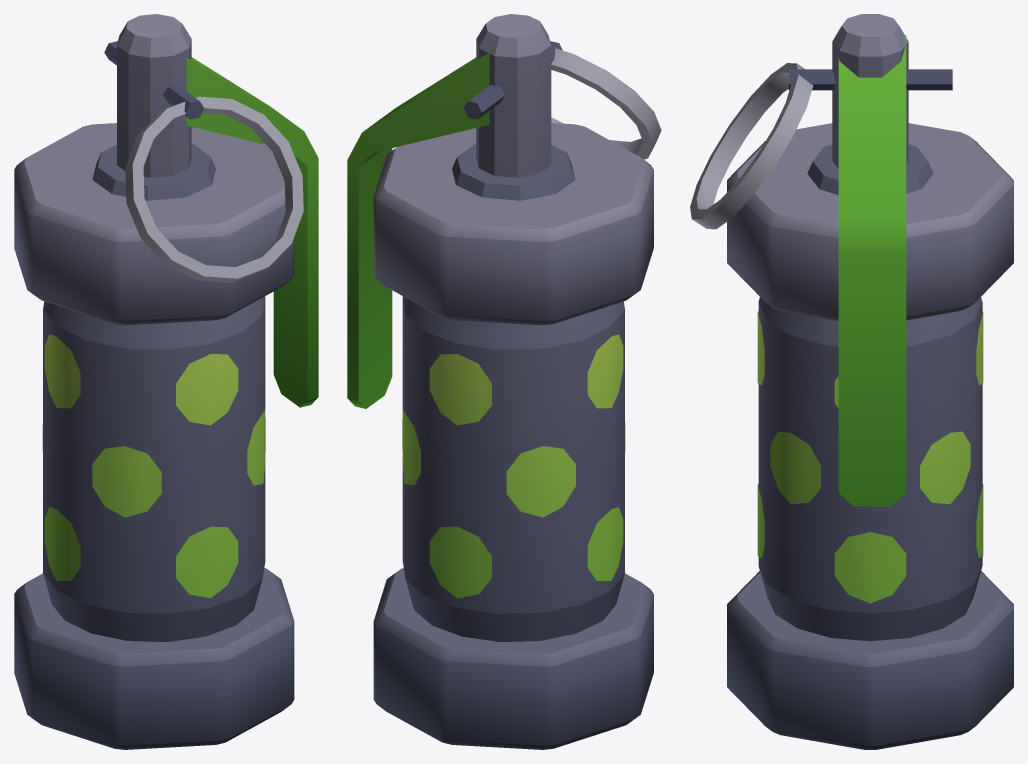
File: Grenade B.fbx
3 views of the same model, side by side, from view 1: azimuth 30°, elevation 25°; view 2: azimuth 150°, elevation 25°; view 3: azimuth 270°, elevation 25° (orthographic).
Visible parts, largest first — view 1: Grenade B; view 2: Grenade B; view 3: Grenade B.
Boxes of the visible parts, left/top/right/bottom form: Grenade B: left=14, top=14, right=318, bottom=749; Grenade B: left=347, top=14, right=661, bottom=749; Grenade B: left=690, top=14, right=1013, bottom=749.
Size of the model in its own units: 0.1314 by 0.3078 by 0.1352.
